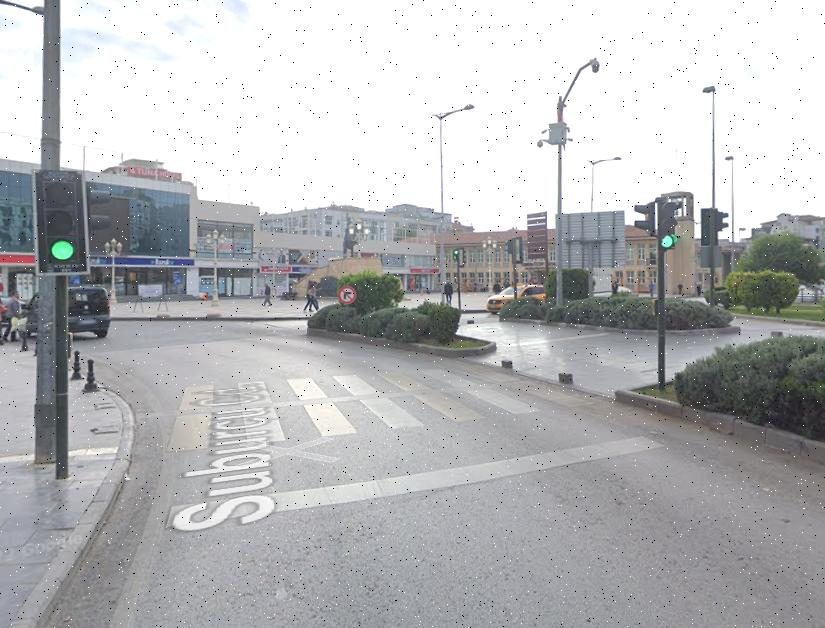greenlight: (35, 170, 86, 273), (661, 202, 677, 250)
rightturnsareforbidden: (339, 287, 356, 305)
